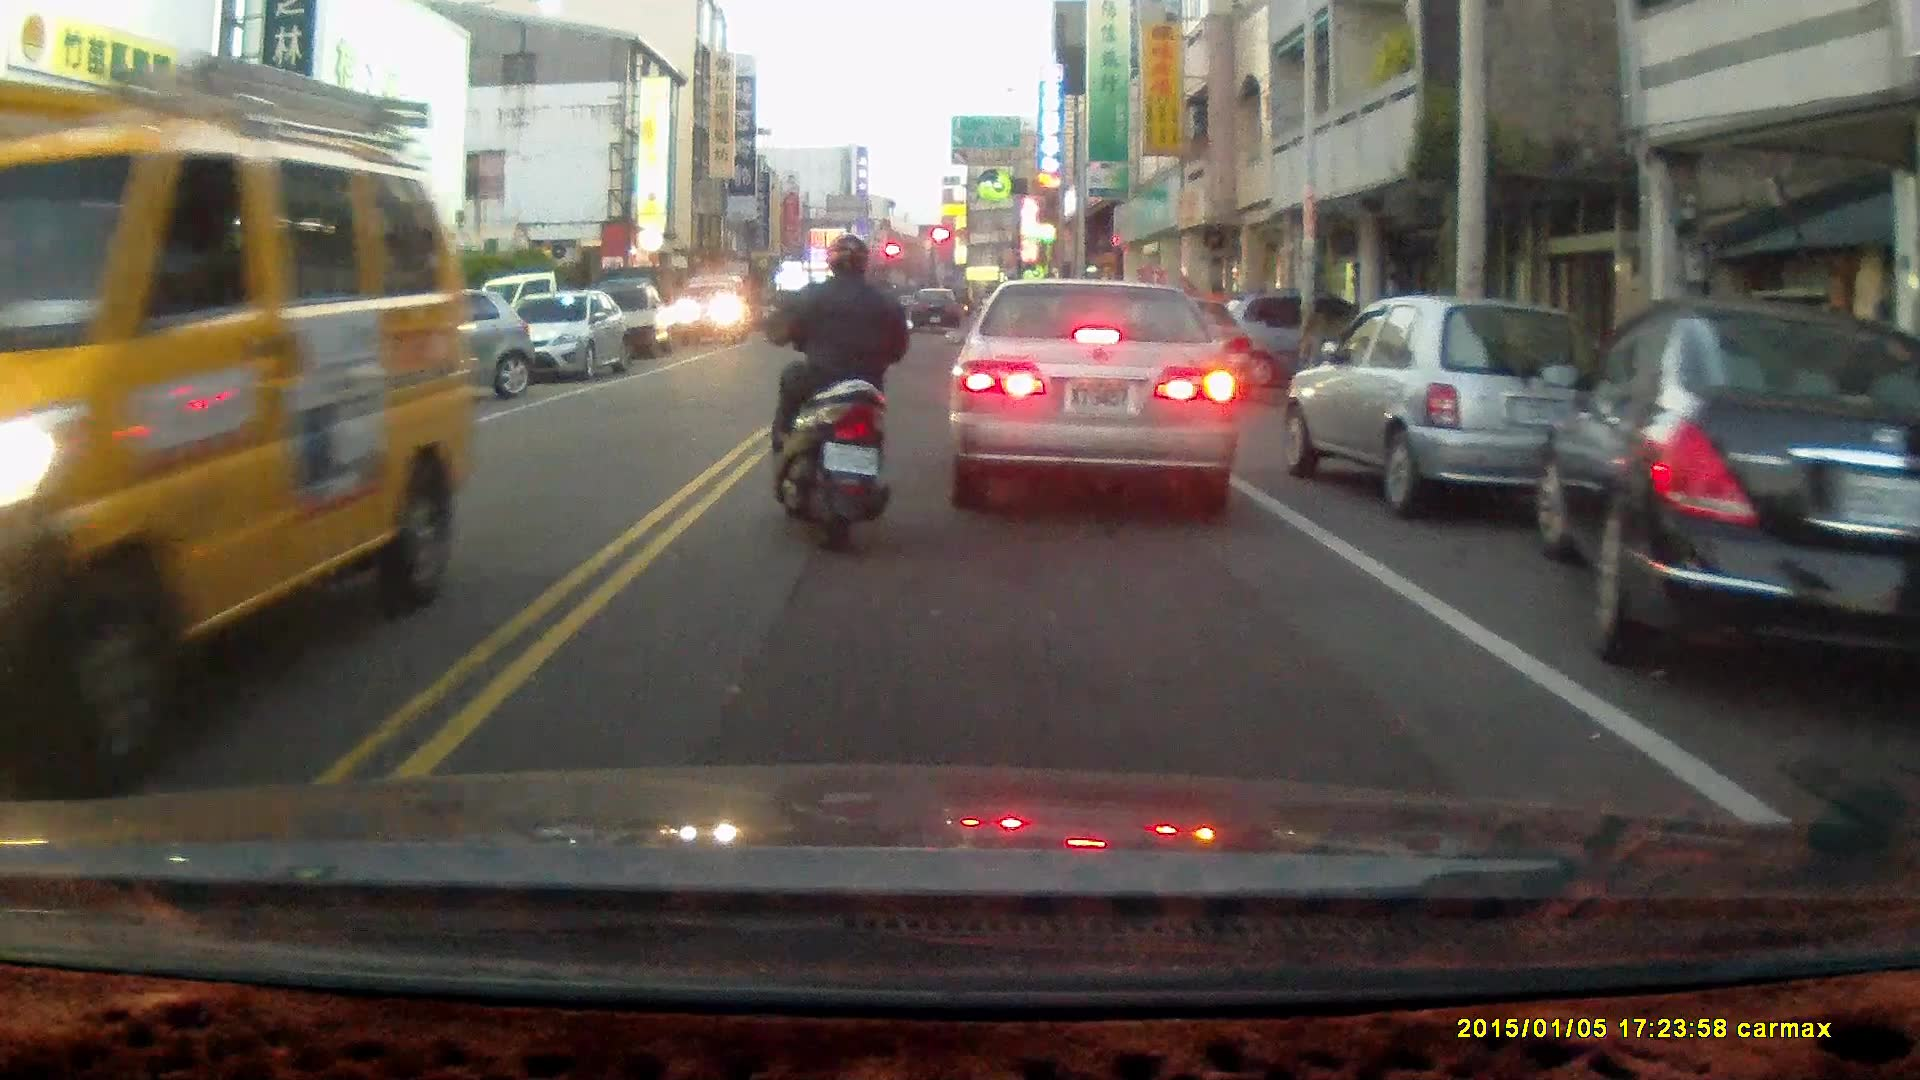rider: (773, 238, 920, 563)
vehicle: (1, 59, 479, 798), (1530, 301, 1920, 711), (1279, 300, 1600, 526), (948, 277, 1244, 513), (512, 289, 636, 385), (676, 273, 760, 343)
